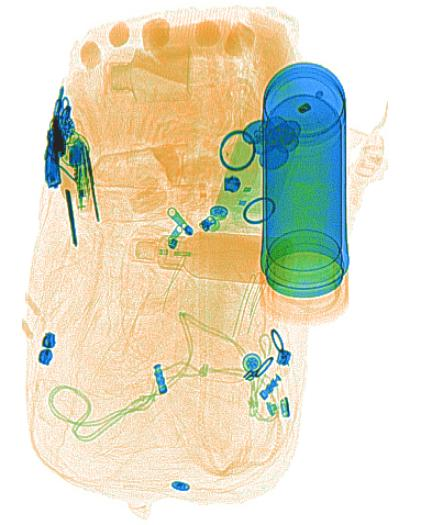plasticBottleWithaNozzle: (126, 231, 295, 284)
